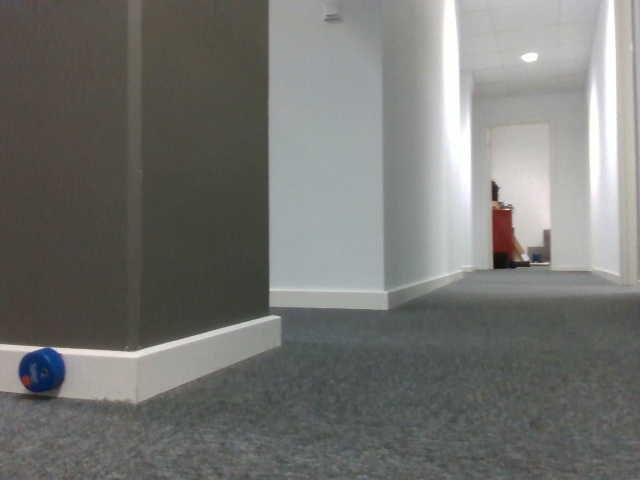alfa: (15, 348, 68, 400)
